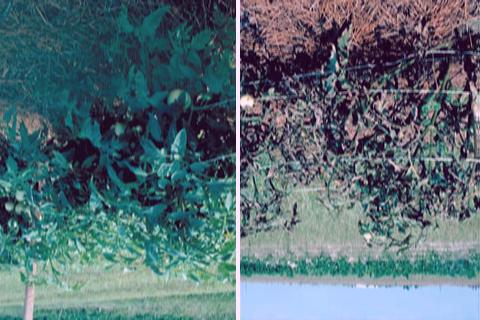Tomato leaf bacterial spot: (170, 123, 193, 159), (132, 67, 156, 101), (106, 160, 127, 197), (144, 198, 167, 224), (83, 116, 103, 143)
